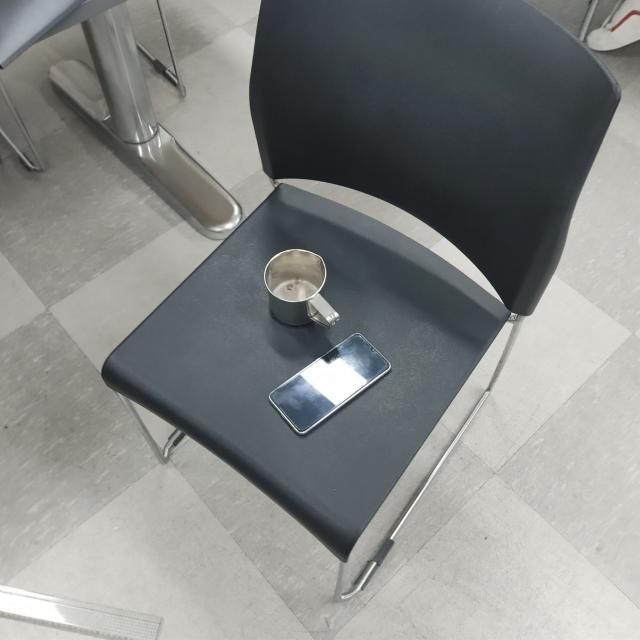cup: (263, 247, 341, 330)
phone: (268, 332, 390, 438)
